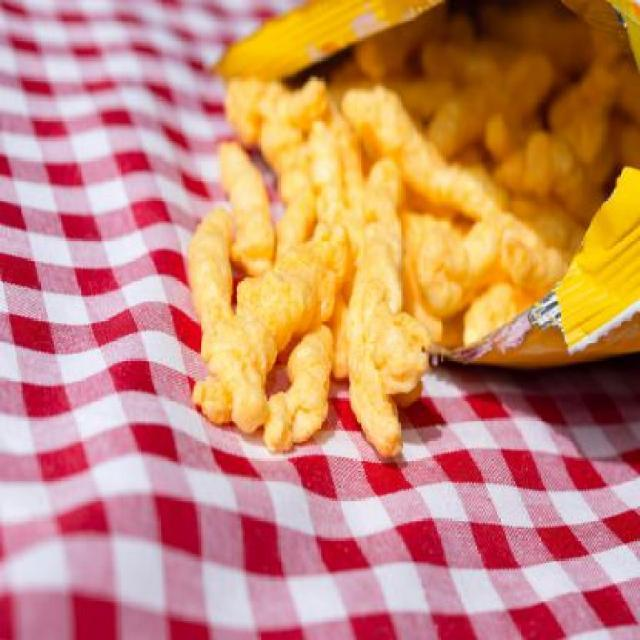Chips packaged: (162, 68, 530, 480)
